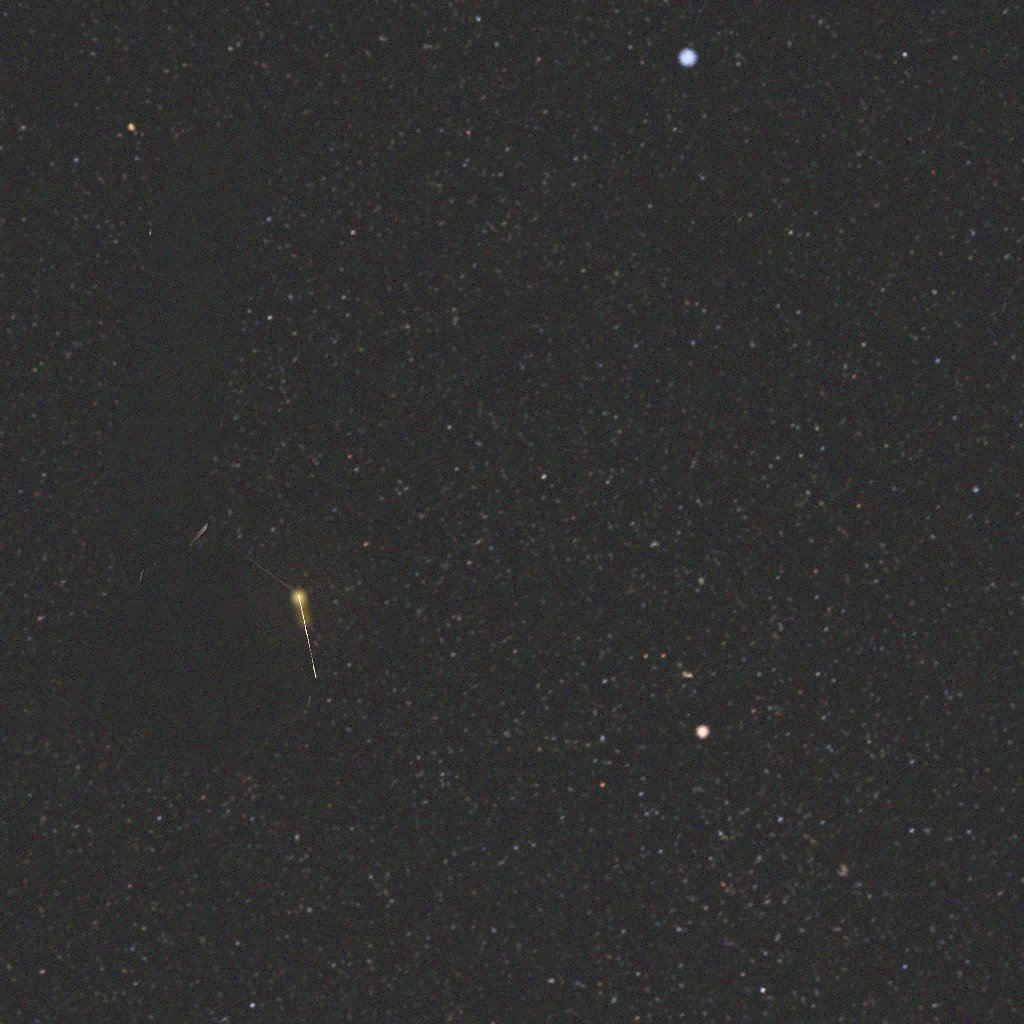earth_observation_sat_1: (41, 116, 379, 828)
